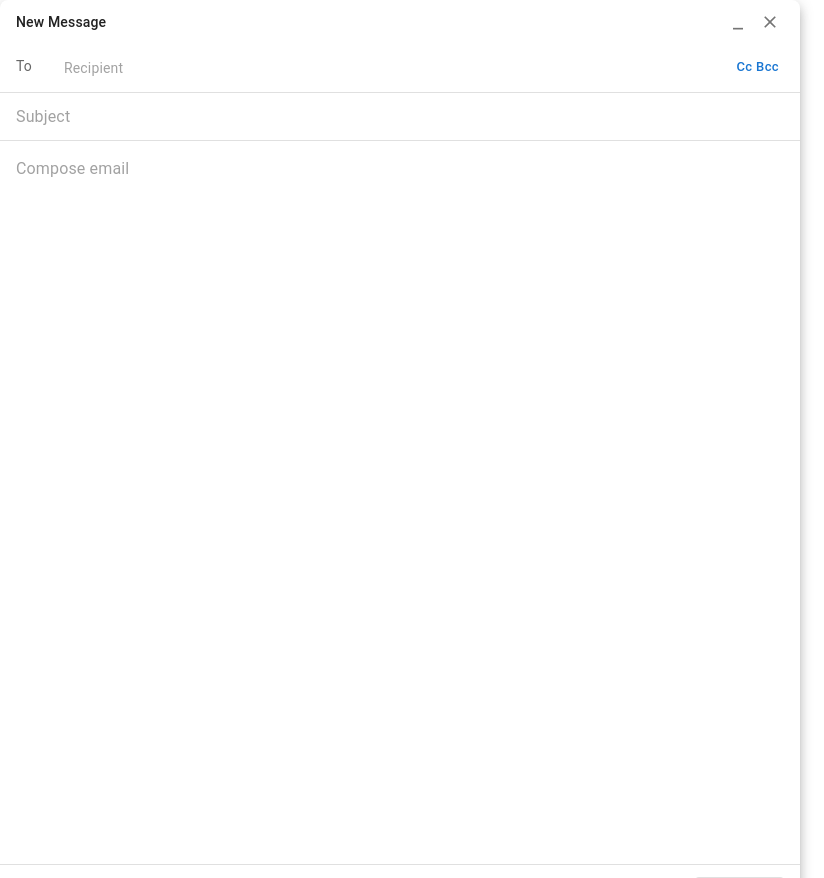
Test: EmailComposer › Cc/Bcc Toggle › toggles back to "Cc Bcc" when Hide is clicked
# First expand
Click the button "Cc Bcc".
click(758, 67)  # box x1=731 y1=52 x2=784 y2=83
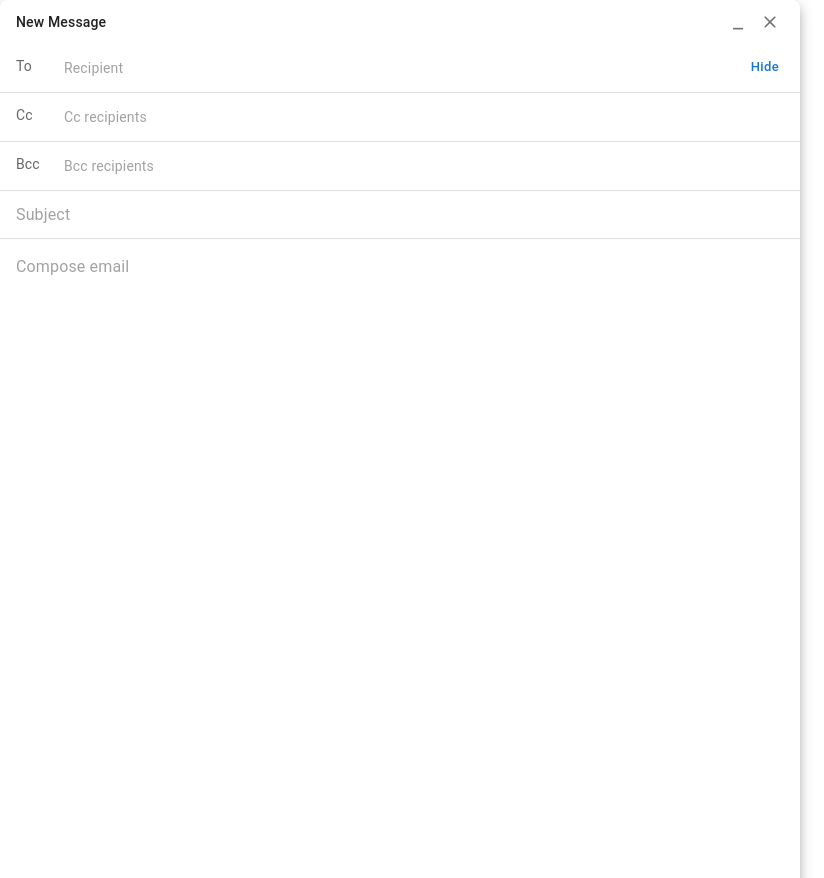
Check: the button "Hide" is shown
# Then collapse
Click the button "Hide".
click(765, 67)  # box x1=746 y1=52 x2=784 y2=83
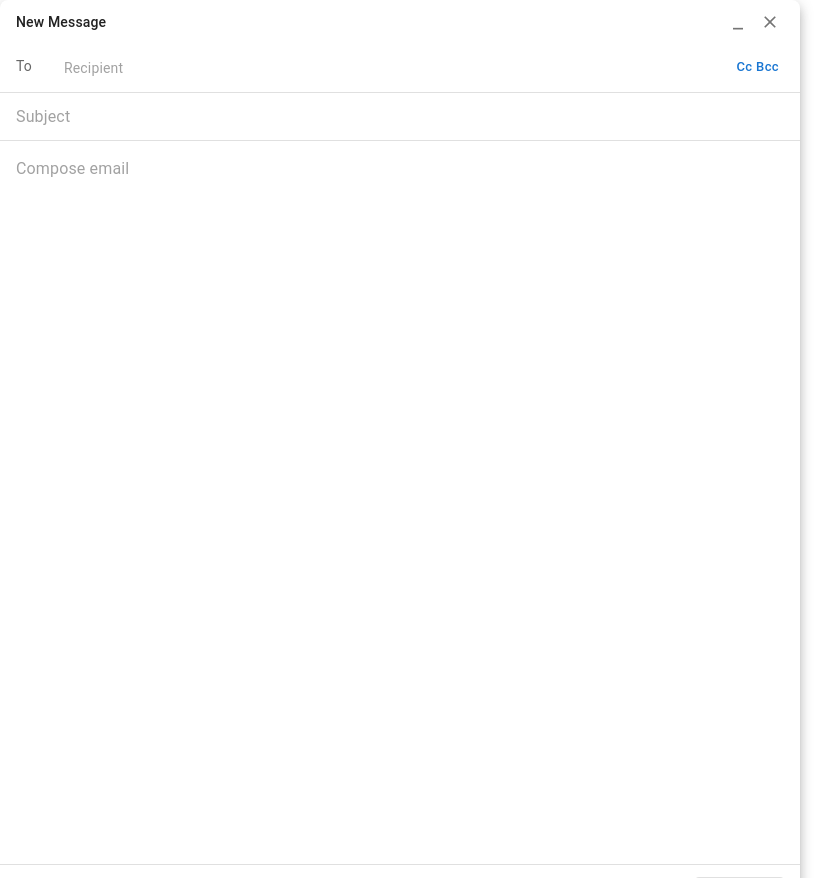
Check: the button "Cc Bcc" is shown, box x1=731 y1=52 x2=784 y2=83
